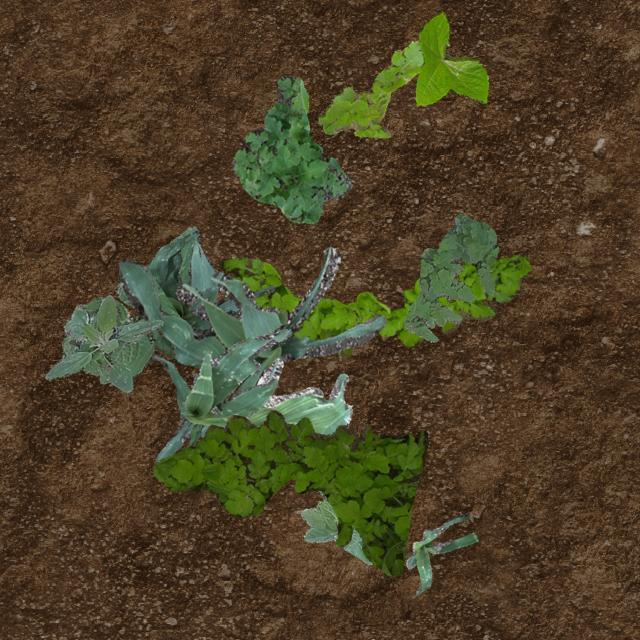crop: (118, 246, 386, 390), (154, 328, 290, 460), (146, 230, 274, 330), (200, 358, 352, 437), (44, 294, 162, 392), (414, 11, 488, 104), (406, 512, 478, 594), (299, 489, 372, 564), (152, 352, 202, 444)
weed: (152, 408, 426, 576), (220, 254, 530, 358), (72, 226, 200, 384), (230, 74, 352, 222), (402, 212, 498, 340), (316, 38, 422, 136)
